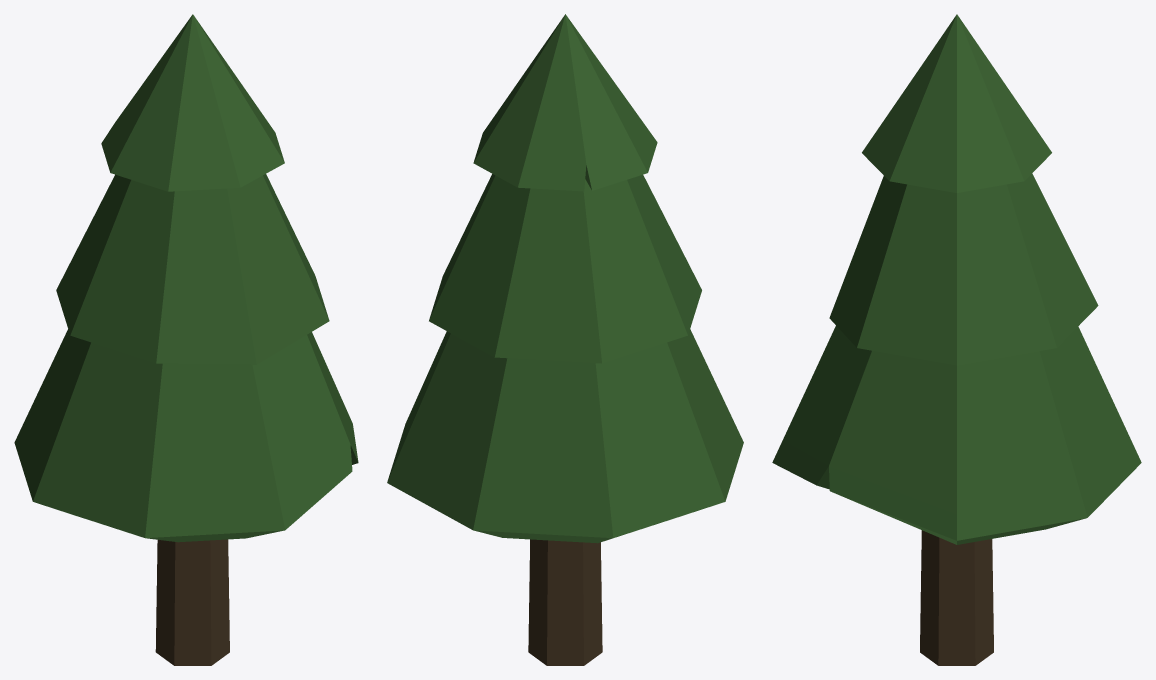
Rendered from Tree_3.fbx.
3 renders of one model, left to right at view 1: azimuth 30°, elevation 25°; view 2: azimuth 150°, elevation 25°; view 3: azimuth 270°, elevation 25°, orthographic.
Parts seen in each view (by area): view 1: Tree_3; view 2: Tree_3; view 3: Tree_3.
Boxes of the visible parts, <box> form: Tree_3: <box>14,14,358,665</box>; Tree_3: <box>387,14,743,665</box>; Tree_3: <box>772,14,1141,665</box>.
Size of the model in its own units: 341 by 649 by 341.
